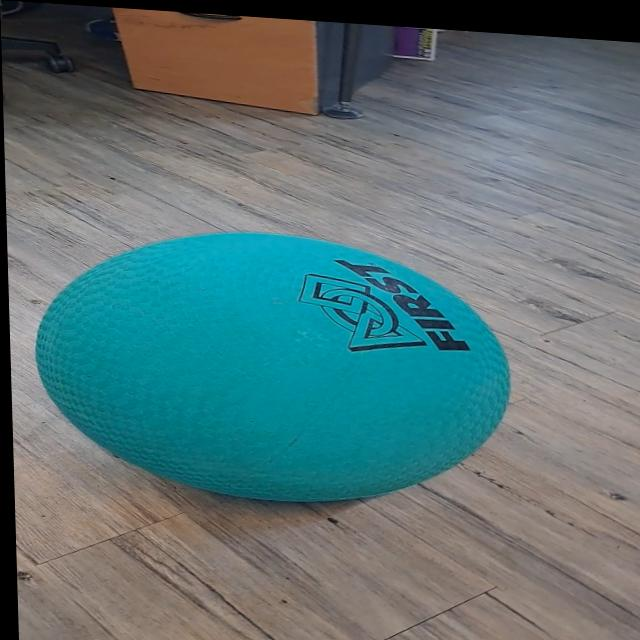ALGAE: (28, 215, 516, 518)
